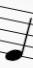note: (4, 5, 32, 63)
